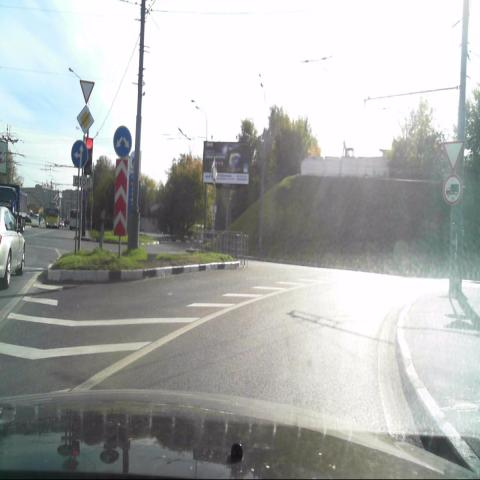3_4_1: (442, 172, 463, 205)
